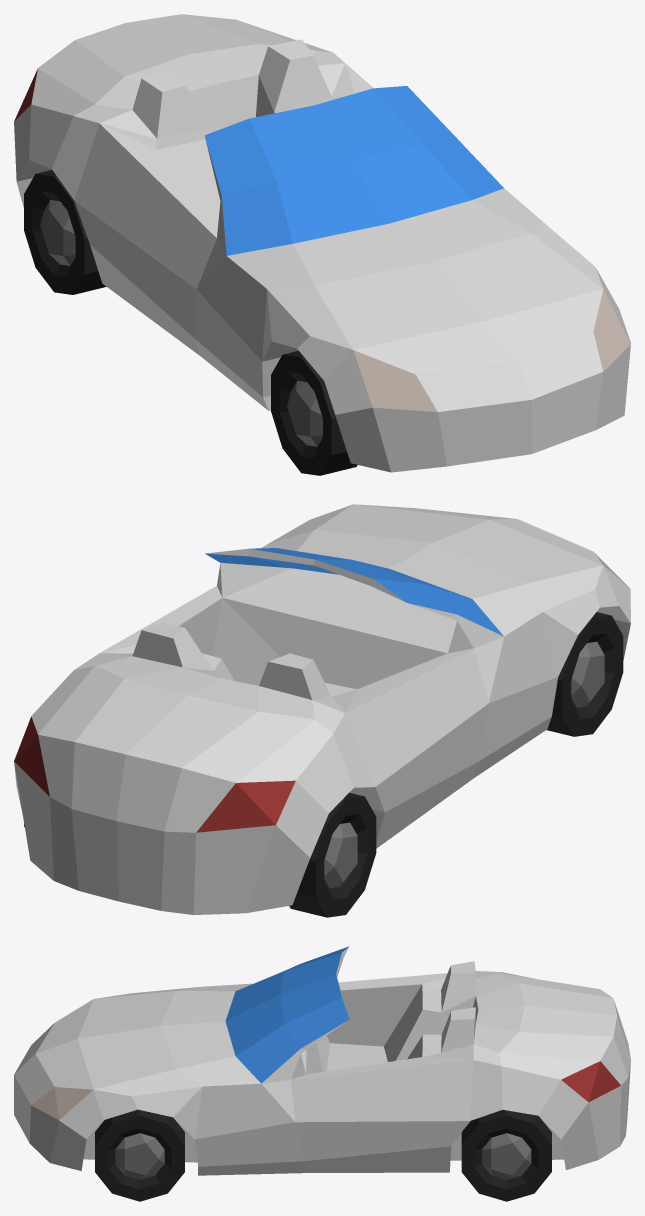
Rendered from PaperCarsCabrio2.fbx.
3 views of the same model, one above another, from view 1: azimuth 30°, elevation 25°; view 2: azimuth 150°, elevation 25°; view 3: azimuth 270°, elevation 25° (orthographic). The views are drawn at different scales.
Parts seen in each view (by area): view 1: PaperCarsCabrio2; view 2: PaperCarsCabrio2; view 3: PaperCarsCabrio2.
Boxes of the visible parts, box(x1,y1,x2,y2) form: PaperCarsCabrio2: box(14, 14, 630, 475); PaperCarsCabrio2: box(14, 504, 630, 917); PaperCarsCabrio2: box(14, 946, 630, 1201).
Size of the model in its own units: 172 by 126 by 404.
